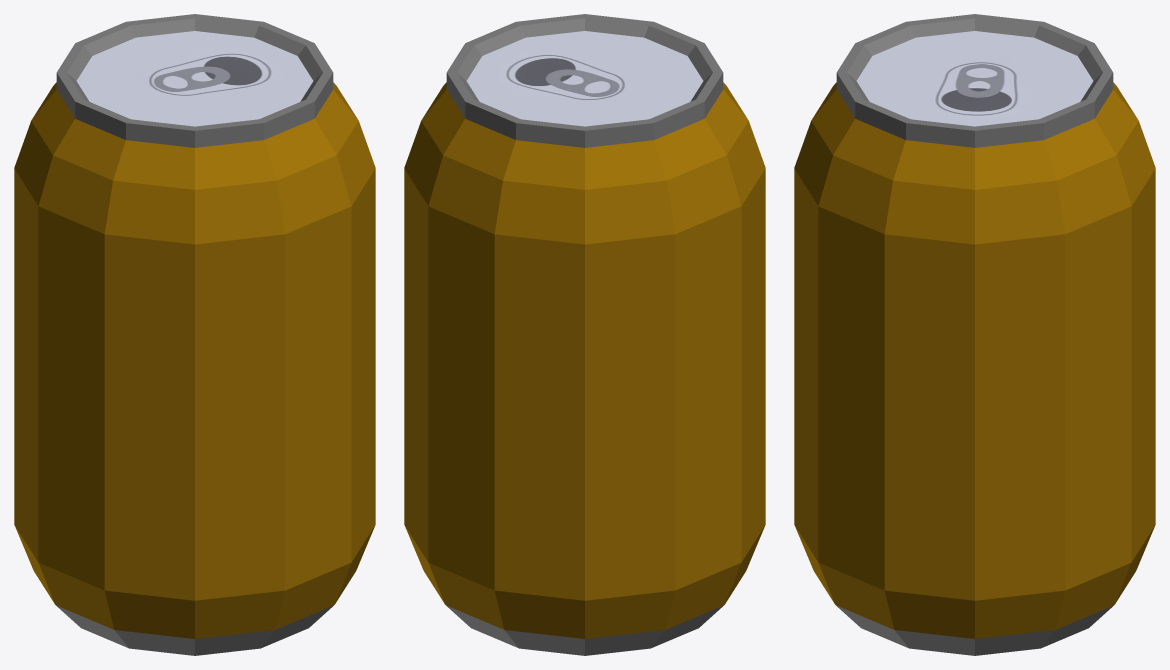
File: bobbin4.glb
3 renders of one model, left to right at view 1: azimuth 30°, elevation 25°; view 2: azimuth 150°, elevation 25°; view 3: azimuth 270°, elevation 25°, orthographic.
Parts seen in each view (by area): view 1: SM_yilaguan_yecan_yellow_0; view 2: SM_yilaguan_yecan_yellow_0; view 3: SM_yilaguan_yecan_yellow_0.
Boxes of the visible parts, box(x1,y1,x2,y2) form: SM_yilaguan_yecan_yellow_0: box(14, 14, 375, 655); SM_yilaguan_yecan_yellow_0: box(404, 14, 765, 655); SM_yilaguan_yecan_yellow_0: box(794, 14, 1155, 655).
Size of the model in its own units: 38.77 by 62.46 by 38.77.
Materials: 3 (3 with a texture image).
